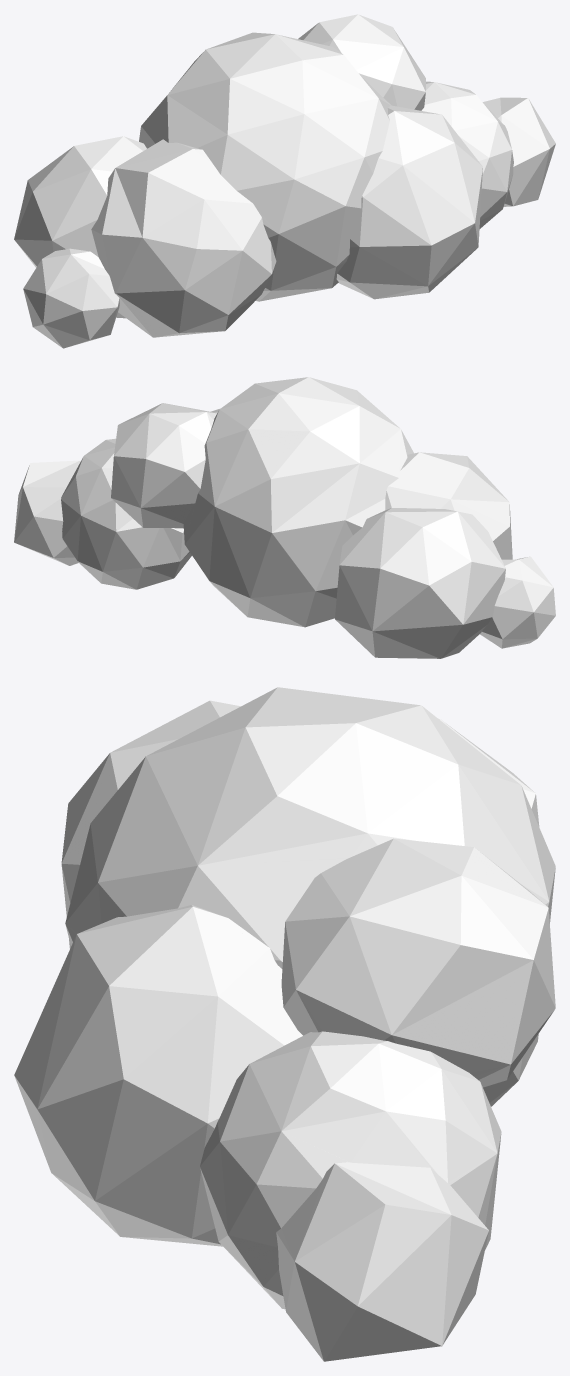
Rendered from Cotone.fbx.
The picture shows the model from 3 angles, top to bottom: view 1: azimuth 30°, elevation 25°; view 2: azimuth 150°, elevation 25°; view 3: azimuth 270°, elevation 25°; orthographic projection. The views are drawn at different scales.
Visible parts, largest first — view 1: Low Poly Cloud V1; view 2: Low Poly Cloud V1; view 3: Low Poly Cloud V1.
Boxes of the visible parts, left/top/right/bottom form: Low Poly Cloud V1: left=14, top=14, right=555, bottom=348; Low Poly Cloud V1: left=14, top=377, right=555, bottom=658; Low Poly Cloud V1: left=14, top=687, right=555, bottom=1361.
Size of the model in its own units: 27.5 by 11.57 by 12.76.
